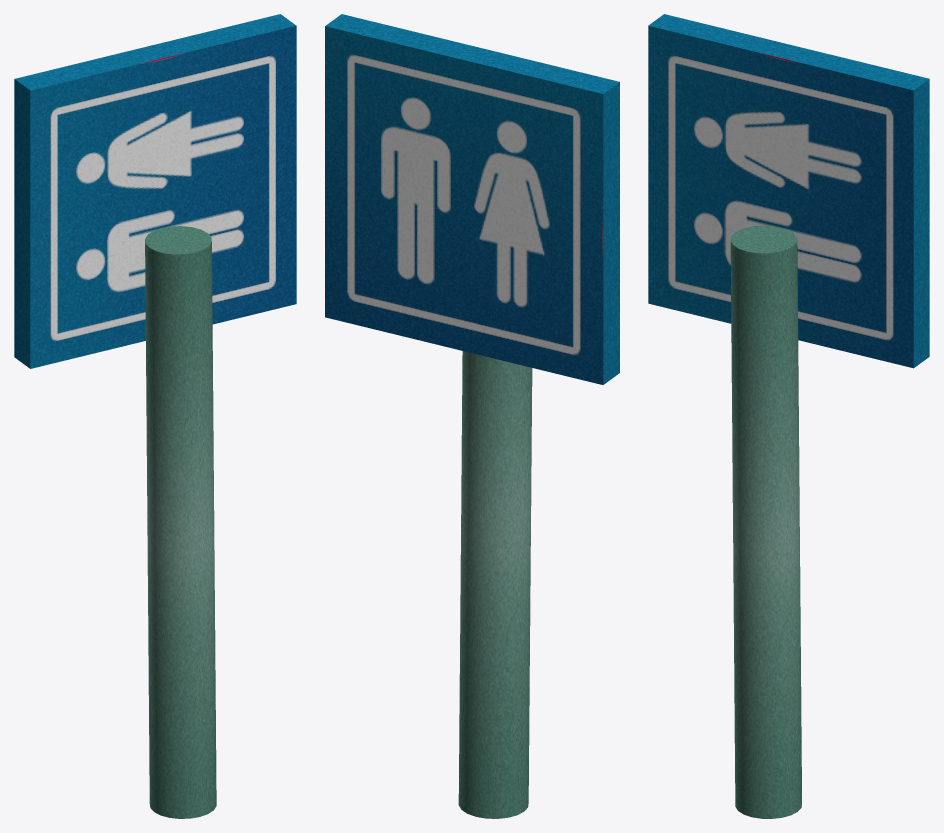
The model's file is sign_3.fbx.
The picture shows the model from 3 angles, left to right: view 1: azimuth 30°, elevation 25°; view 2: azimuth 150°, elevation 25°; view 3: azimuth 330°, elevation 25°; orthographic projection. The views are drawn at different scales.
Visible parts, largest first — view 1: pCube3, pCylinder3; view 2: pCube3, pCylinder3; view 3: pCube3, pCylinder3.
Boxes of the visible parts, box(x1,y1,x2,y2) form: pCube3: box(14, 14, 296, 368); pCylinder3: box(145, 226, 216, 818); pCube3: box(325, 14, 619, 384); pCylinder3: box(458, 351, 532, 818); pCube3: box(648, 14, 929, 368); pCylinder3: box(730, 225, 801, 818).
Bounding box in the file's own units: 1 × 2.64 × 0.3176.
